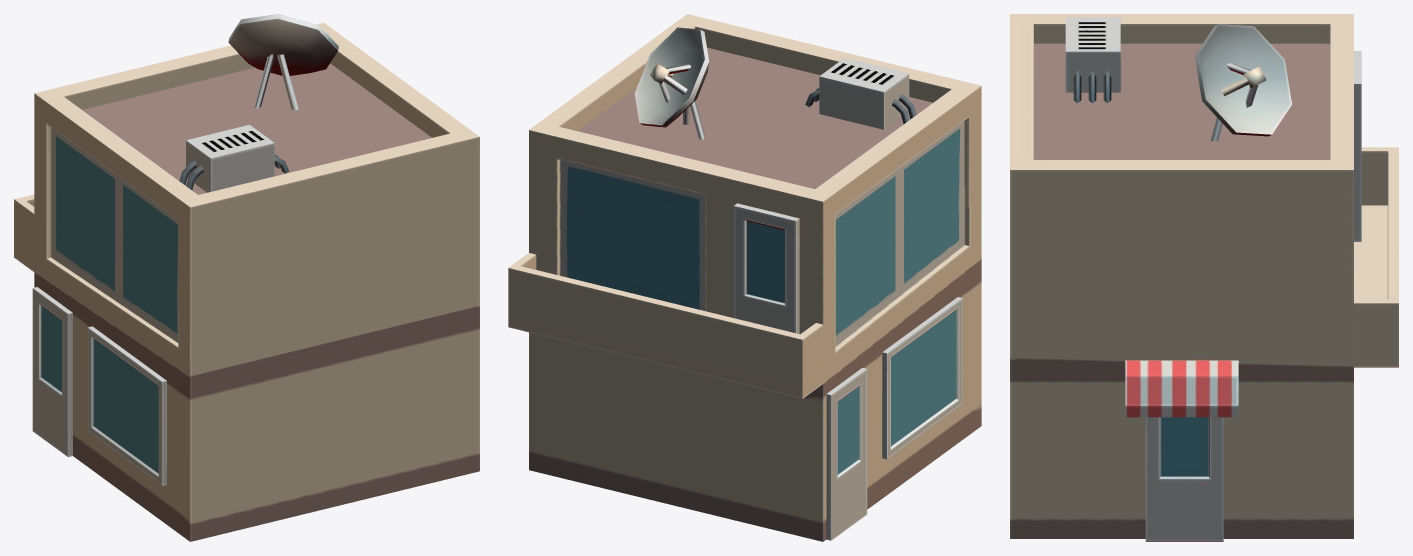
File: Apartament.FBX
3 views of the same model, side by side, from view 1: azimuth 30°, elevation 25°; view 2: azimuth 150°, elevation 25°; view 3: azimuth 270°, elevation 25° (orthographic). The views are drawn at different scales.
Parts seen in each view (by area): view 1: Plane003; view 2: Plane003; view 3: Plane003.
Boxes of the visible parts, x1,y1,x2,y2 form: Plane003: (14,14,479,541); Plane003: (508,14,981,541); Plane003: (1010,14,1398,541).
Bounding box in the file's own units: 2.62 × 3.2 × 2.47.
1 material, 1 textured.
